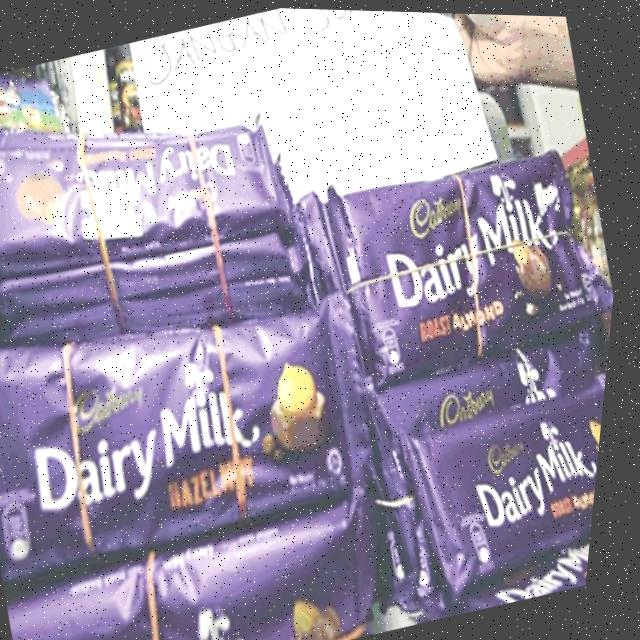cadbury: (0, 269, 395, 591), (0, 54, 322, 347), (324, 135, 622, 363), (405, 383, 612, 563)
